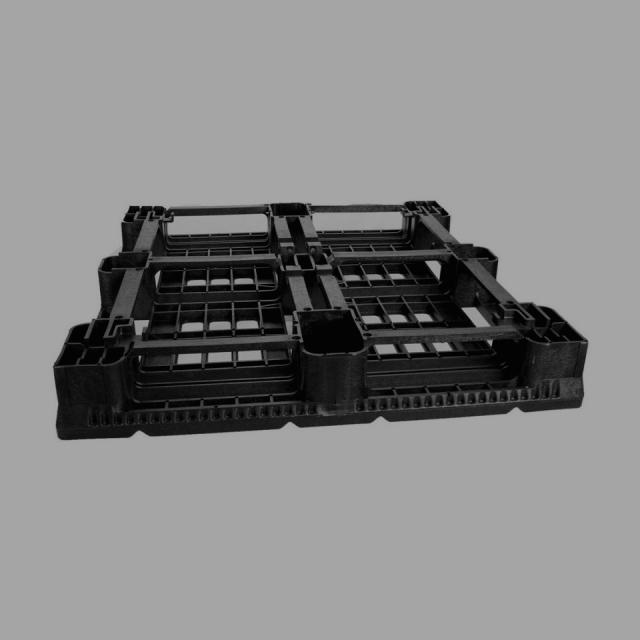non-igps: (41, 190, 596, 457)
